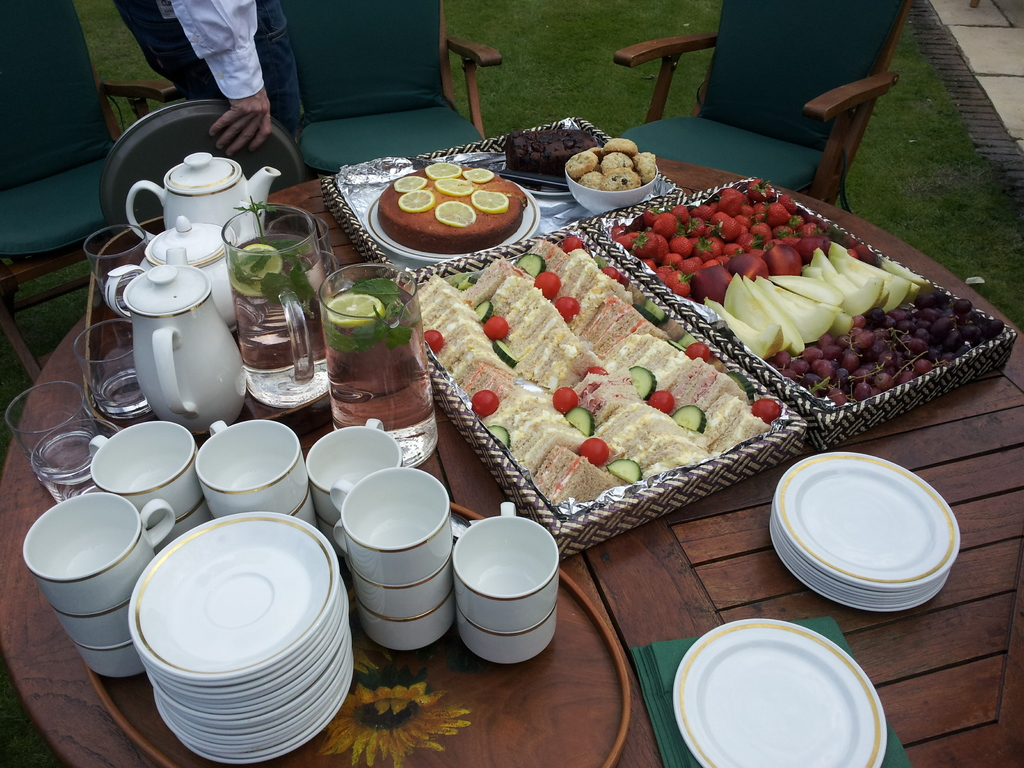plate: (672, 618, 887, 767)
